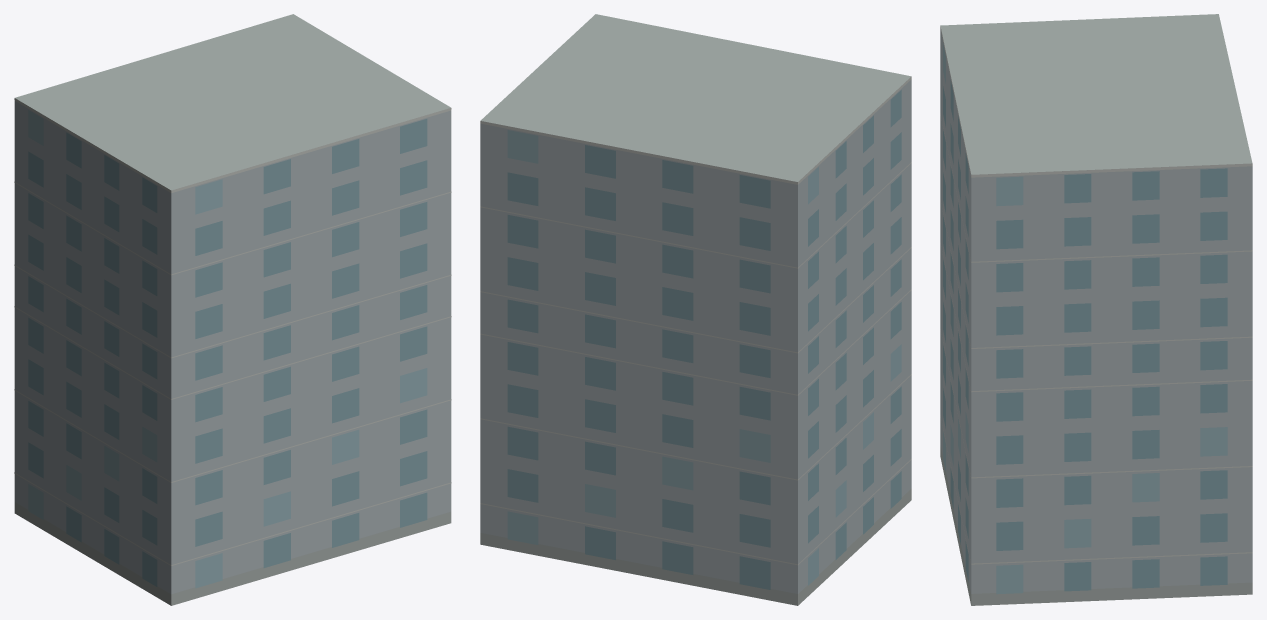
The model's file is survey-upis-33016938.glb.
3 renders of one model, left to right at view 1: azimuth 30°, elevation 25°; view 2: azimuth 150°, elevation 25°; view 3: azimuth 270°, elevation 25°, orthographic. The views are drawn at different scales.
Parts seen in each view (by area): view 1: survey-upis-33016938.tmp; view 2: survey-upis-33016938.tmp; view 3: survey-upis-33016938.tmp.
Part boxes in pixels (x1,y1,x2,y2): survey-upis-33016938.tmp: (14, 14, 451, 605); survey-upis-33016938.tmp: (480, 14, 911, 605); survey-upis-33016938.tmp: (940, 14, 1252, 605).
Bounding box in the file's own units: 29.66 × 37.05 × 24.33.
